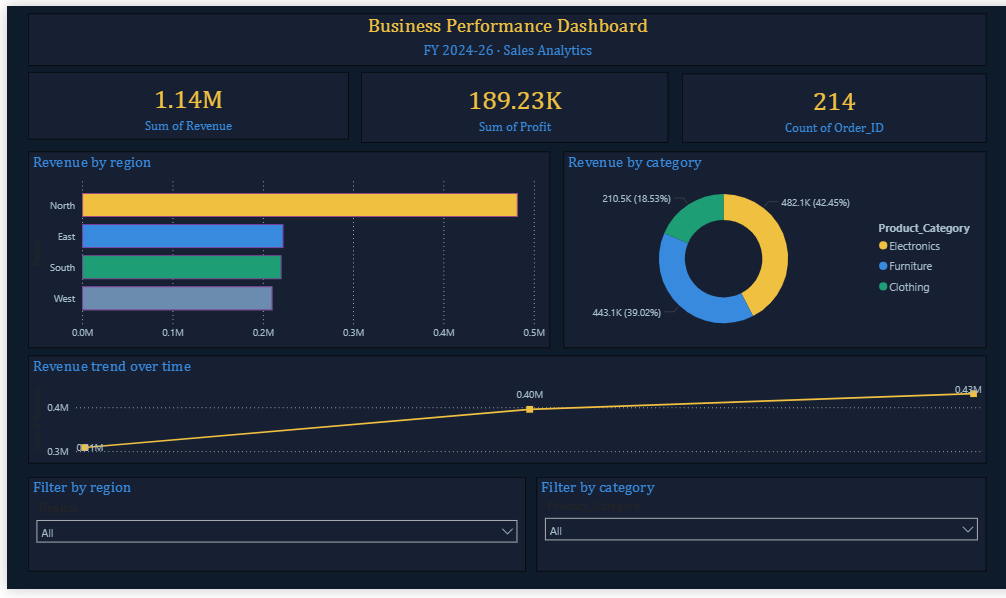

This screenshot's page, from the dashboard's own definition file:
{"tool":"powerbi","page":{"name":"Page 1","canvas":[1280,720],"ordinal":0},"visuals":[{"type":"clusteredBarChart","title":"Revenue by region","fields":{"Category":["Sales_Data.Region"],"Y":["Sum(Sales_Data.Revenue)"]},"box":[25.9,179.6,644.4,242.6],"z":0},{"type":"donutChart","title":"Revenue by category","fields":{"Category":["Sales_Data.Product_Category"],"Y":["Sum(Sales_Data.Revenue)"]},"box":[687,179.6,522.2,242.6],"z":1000},{"type":"lineChart","title":"Revenue trend over time","fields":{"Category":["Sales_Data.Date.Variation.Date Hierarchy.Year","Sales_Data.Date.Variation.Date Hierarchy.Quarter","Sales_Data.Date.Variation.Date Hierarchy.Month","Sales_Data.Date.Variation.Date Hierarchy.Day"],"Y":["Sum(Sales_Data.Revenue)"]},"box":[25.9,431.5,1183.3,133.3],"z":2000},{"type":"card","fields":{"Values":["Sum(Sales_Data.Revenue)"]},"box":[25.9,81.5,396.3,83.3],"z":3000},{"type":"card","fields":{"Values":["Sum(Sales_Data.Profit)"]},"box":[437,81.5,379.6,87],"z":4000},{"type":"slicer","title":"Filter by region","fields":{"Values":["Sales_Data.Region"]},"box":[25.9,581.5,614.8,116.7],"z":5000},{"type":"slicer","title":"Filter by category","fields":{"Values":["Sales_Data.Product_Category"]},"box":[653.7,581.5,555.6,116.7],"z":6000},{"type":"card","fields":{"Values":["CountNonNull(Sales_Data.Order_ID)"]},"box":[833.3,83.3,375.9,85.2],"z":7000},{"type":"textbox","title":"Business Performance Dashboard","box":[25.9,9.3,1183.3,64.8],"z":8000}]}

Visuals, with their boxes on the page's 1280x720 design canvas (x1, y1, x2, y2). These are canvas units, not pixel positions in the 1006x598 screenshot, which may show the page scaled, cropped or inside an application window:
"Revenue by region" clusteredBarChart: bbox(26, 180, 670, 422)
"Revenue by category" donutChart: bbox(687, 180, 1209, 422)
"Revenue trend over time" lineChart: bbox(26, 432, 1209, 565)
card - Sum(Sales_Data.Revenue): bbox(26, 82, 422, 165)
card - Sum(Sales_Data.Profit): bbox(437, 82, 817, 168)
"Filter by region" slicer: bbox(26, 582, 641, 698)
"Filter by category" slicer: bbox(654, 582, 1209, 698)
card - CountNonNull(Sales_Data.Order_ID): bbox(833, 83, 1209, 168)
"Business Performance Dashboard" textbox: bbox(26, 9, 1209, 74)
